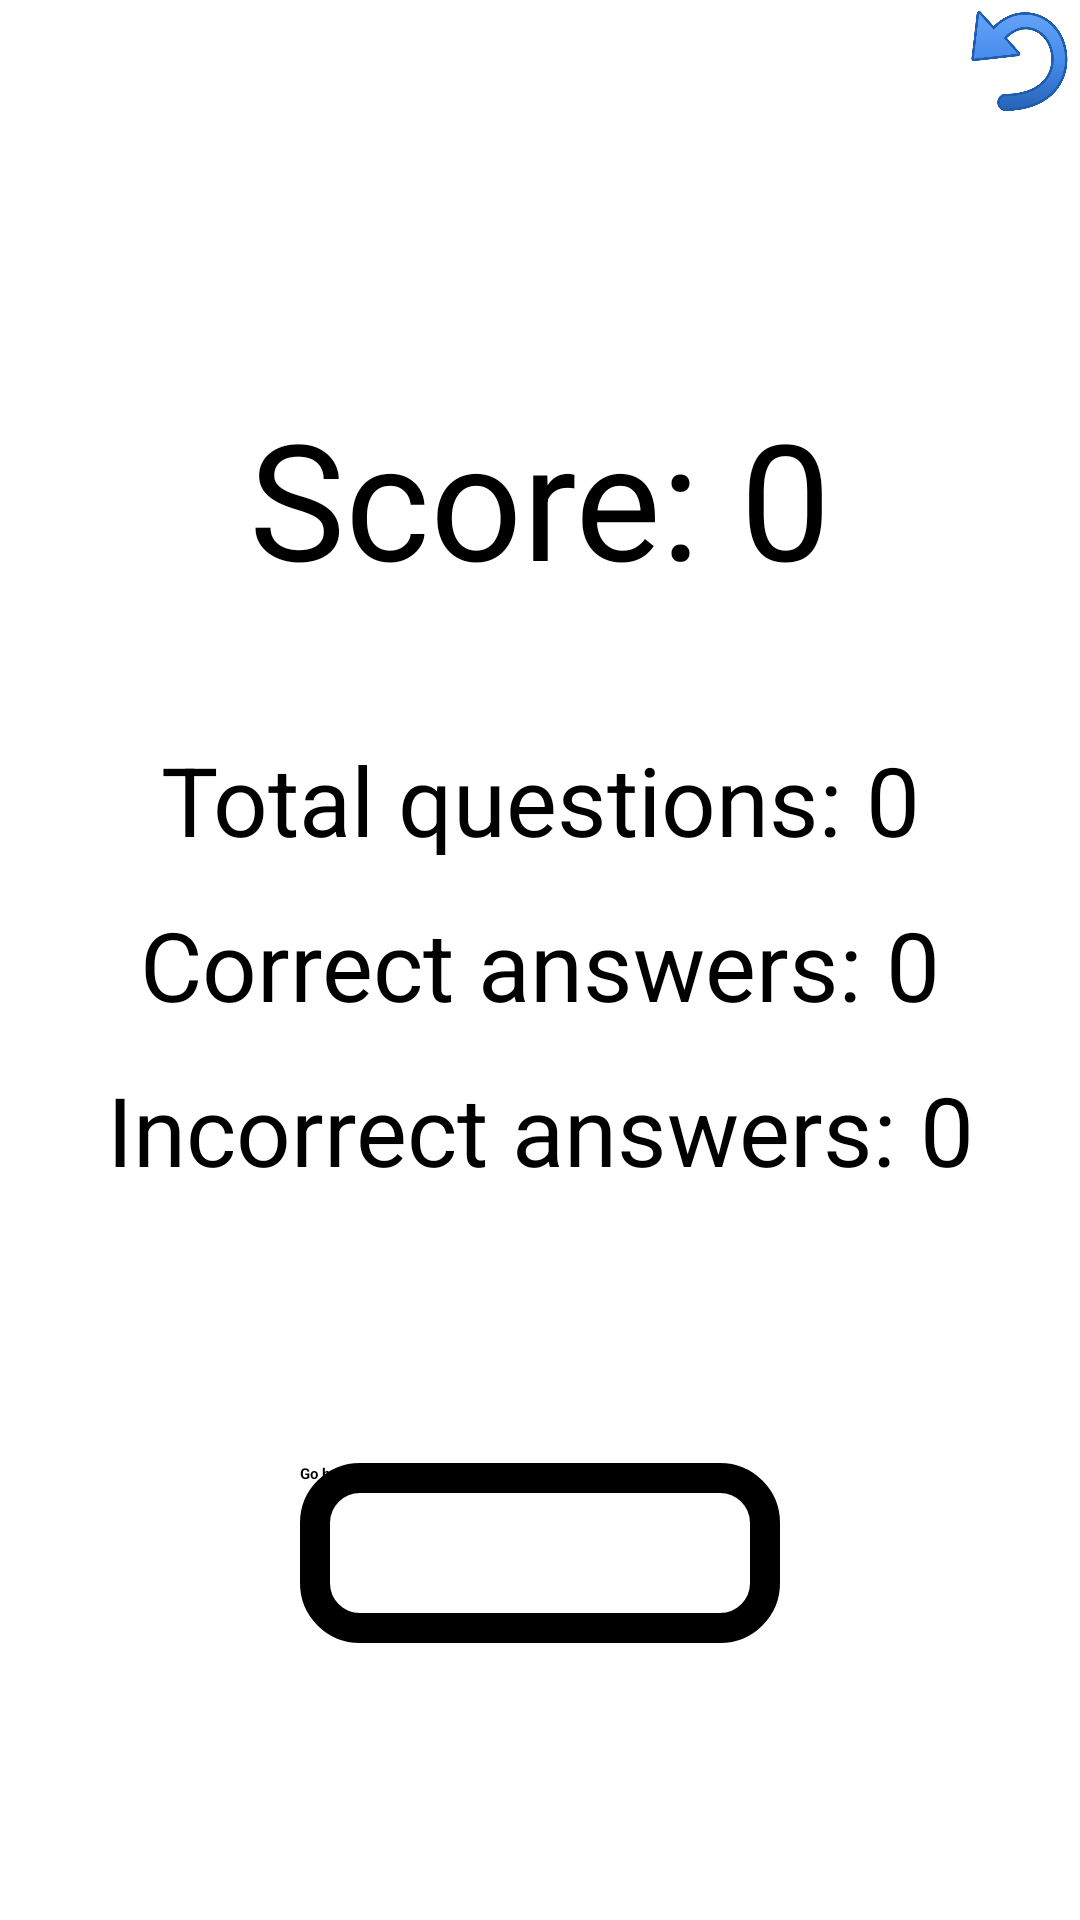

Where icons sit on this 1080x1920 app screen, as (x1, y1, x2, y2):
undo: (971, 11, 1068, 111)
